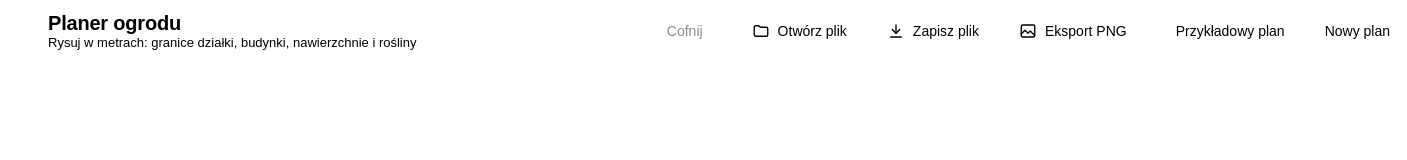
Test: Header › reports PNG export failure
Click the button "Eksport PNG" at (1073, 31), box [1003,22,1143,40]
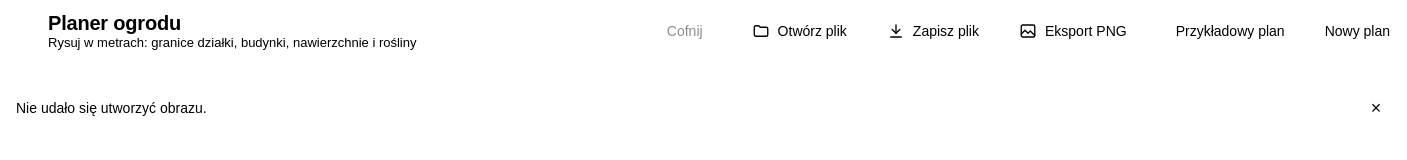
Expected: the text "Nie udało się utworzyć obrazu." is shown, [16,100,207,116]
